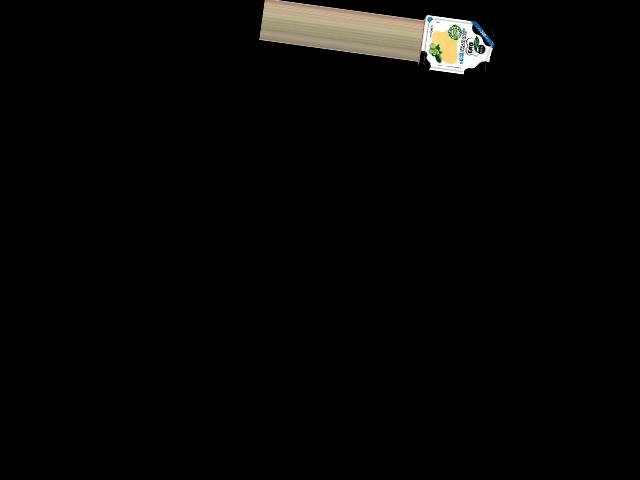cheese: (415, 11, 496, 80)
